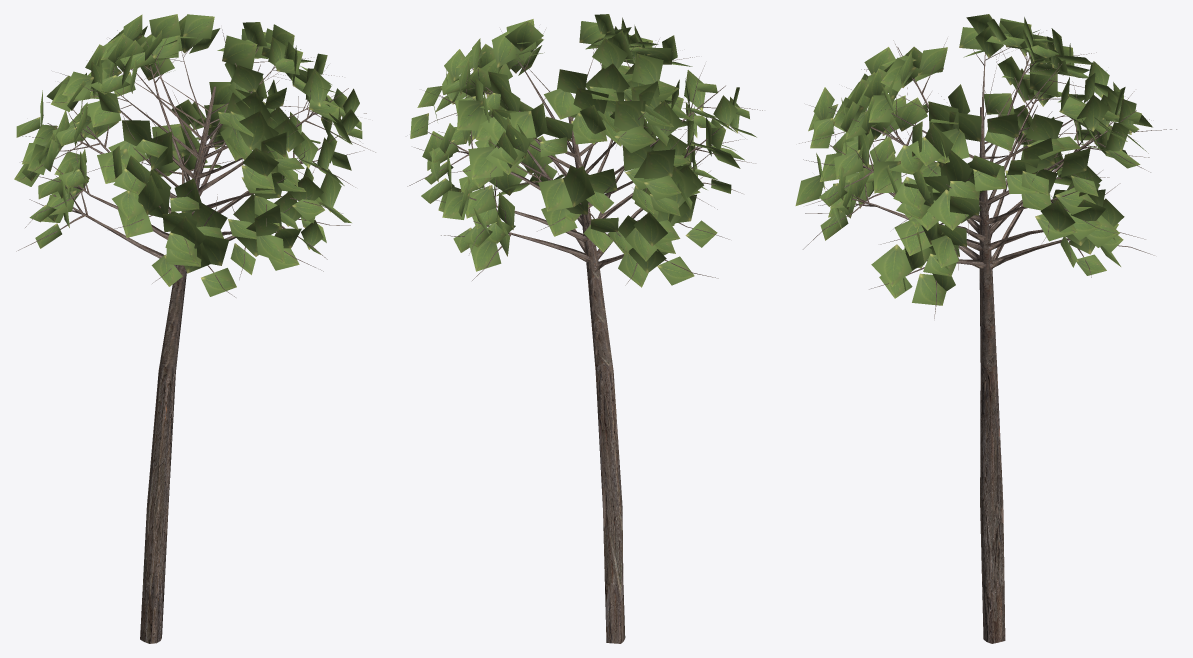
File: tree2.fbx
3 renders of one model, left to right at view 1: azimuth 30°, elevation 25°; view 2: azimuth 150°, elevation 25°; view 3: azimuth 270°, elevation 25°, orthographic. The views are drawn at different scales.
Parts seen in each view (by area): view 1: Tree_1, Tree_0; view 2: Tree_1, Tree_0; view 3: Tree_1, Tree_0.
Part boxes in pixels (x1=…): Tree_1: x1=14, y1=14, x2=362, y2=296; Tree_0: x1=16, y1=29, x2=375, y2=643; Tree_1: x1=410, y1=14, x2=756, y2=287; Tree_0: x1=407, y1=29, x2=762, y2=643; Tree_1: x1=795, y1=14, x2=1152, y2=305; Tree_0: x1=799, y1=30, x2=1176, y2=643.
Size of the model in its own units: 71.62 by 127 by 70.64.
2 materials, 2 textured.
